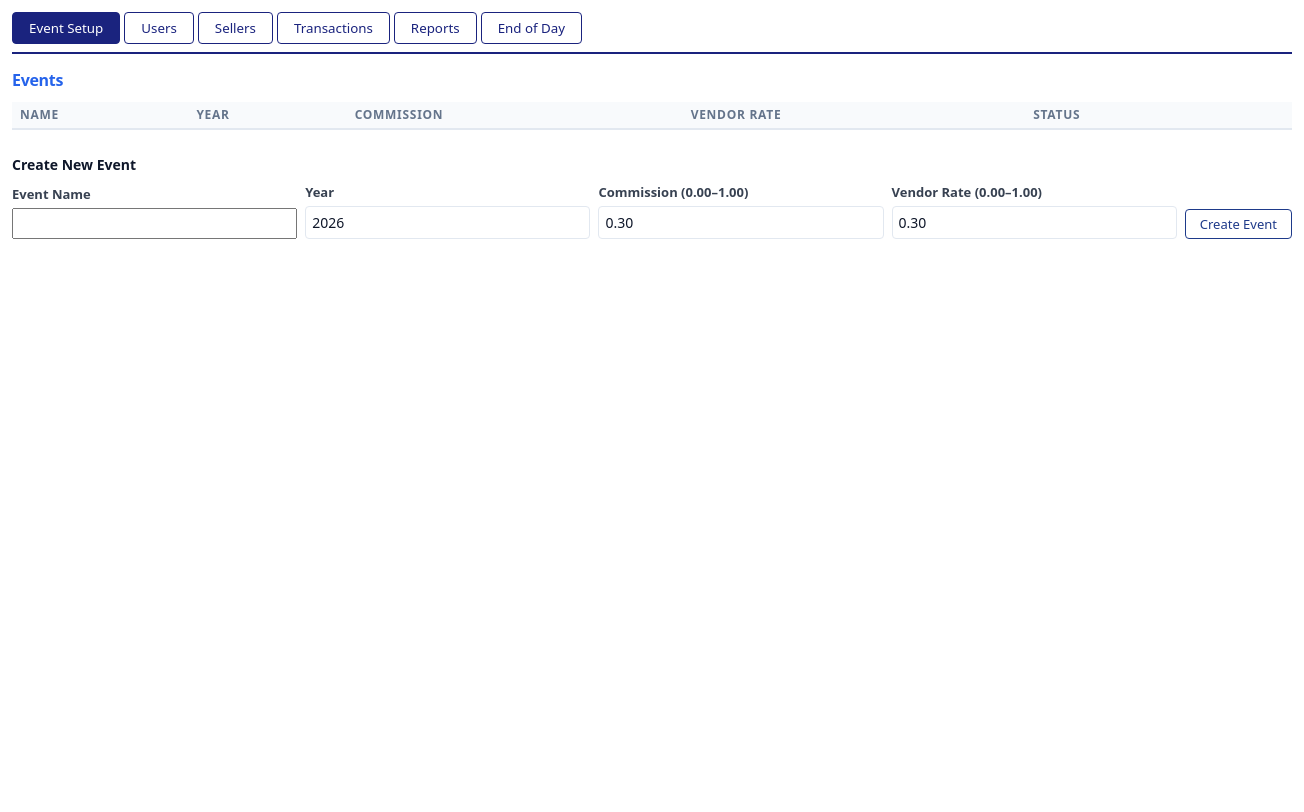
Test case: AdminPage navigation › navigates to End of Day section
Click the button "End of Day": (531, 28) [481, 12, 582, 44]
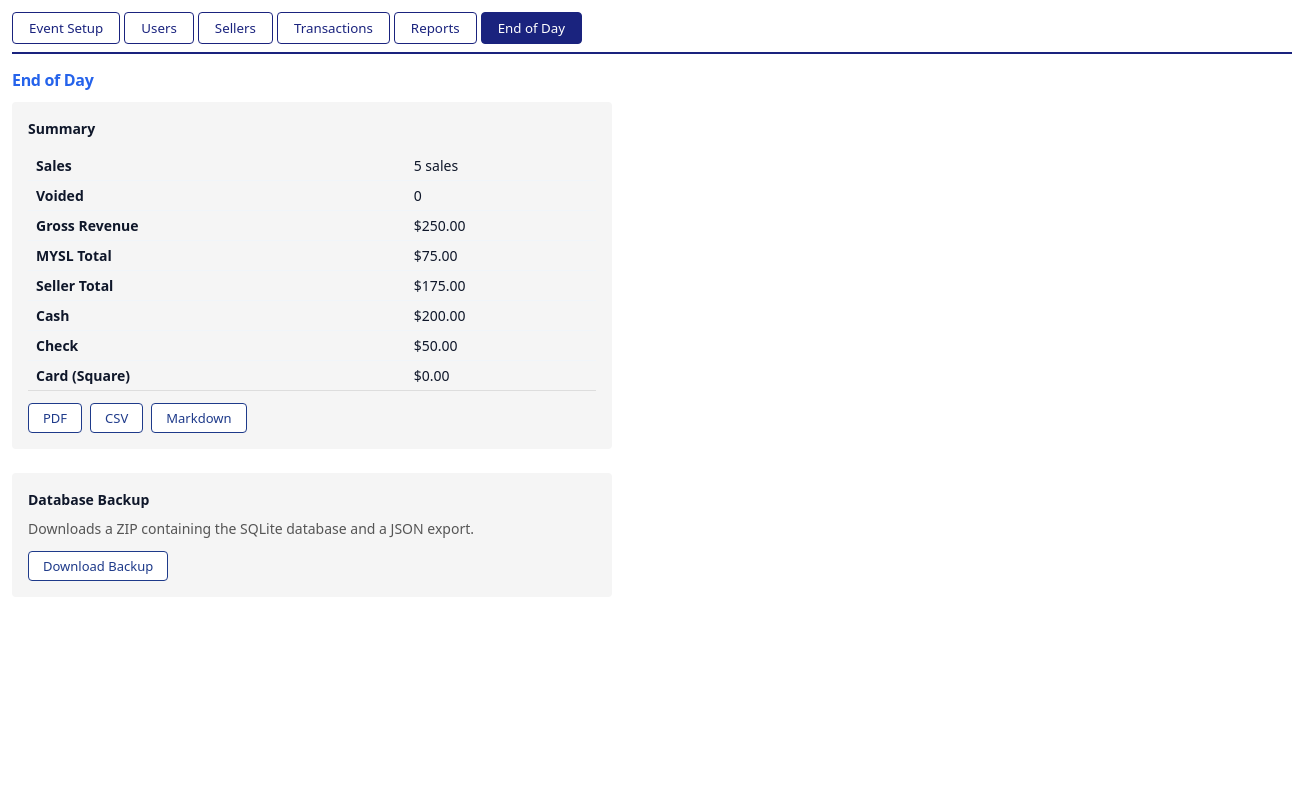
Expected: the button "Download Backup" is shown, [28, 551, 168, 581]
